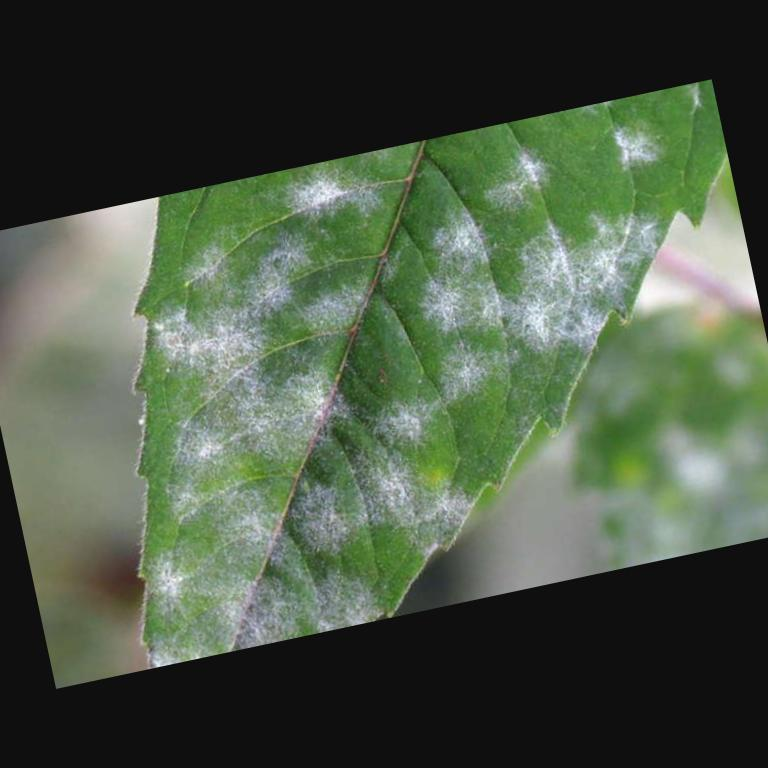powdery-mildew: (184, 140, 622, 404), (173, 380, 449, 584)
